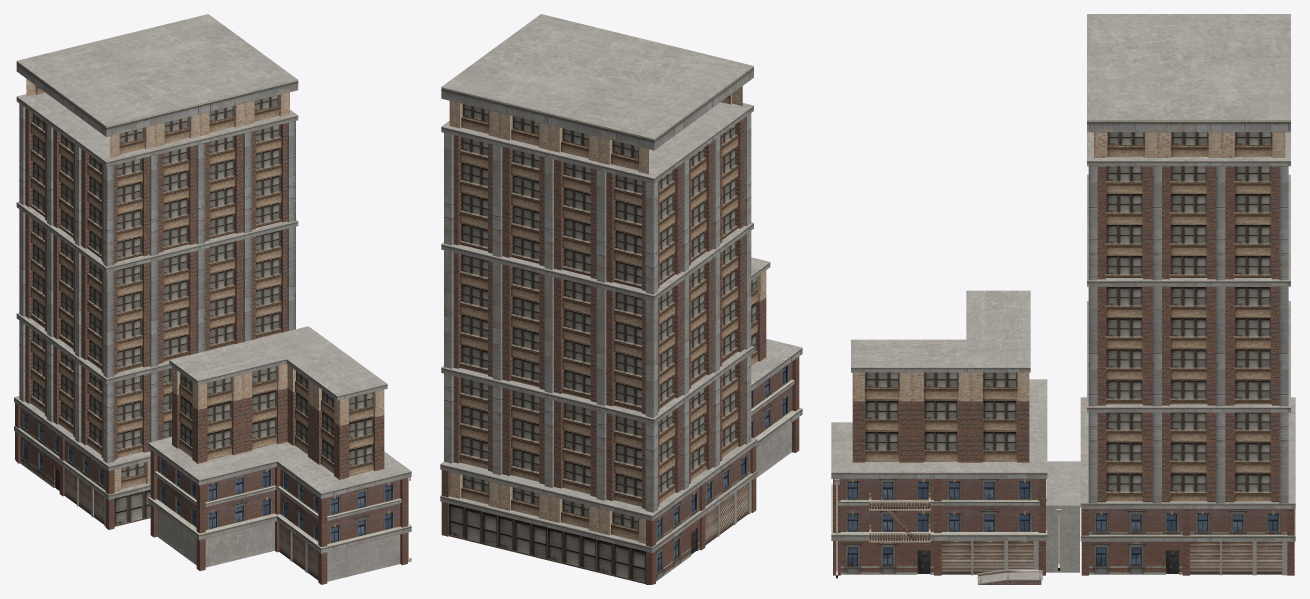
File: Building2_single.fbx
3 views of the same model, side by side, from view 1: azimuth 30°, elevation 25°; view 2: azimuth 150°, elevation 25°; view 3: azimuth 270°, elevation 25° (orthographic). The views are drawn at different scales.
Visible parts, largest first — view 1: Atlas.007; view 2: Atlas.007; view 3: Atlas.007.
Part boxes in pixels (<box>): Atlas.007: <box>14,14,411,584</box>; Atlas.007: <box>440,14,802,584</box>; Atlas.007: <box>831,14,1295,584</box>.
Size of the model in its own units: 173 by 322 by 296.
